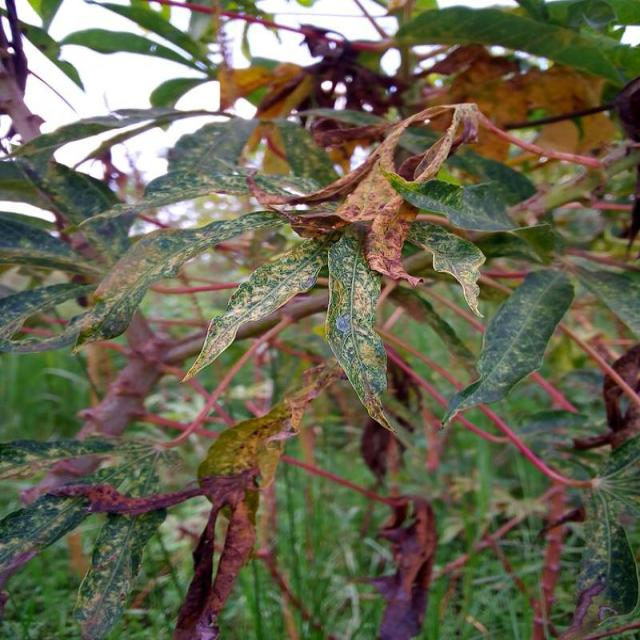cassava leaf: (440, 265, 576, 430), (325, 230, 397, 433)
